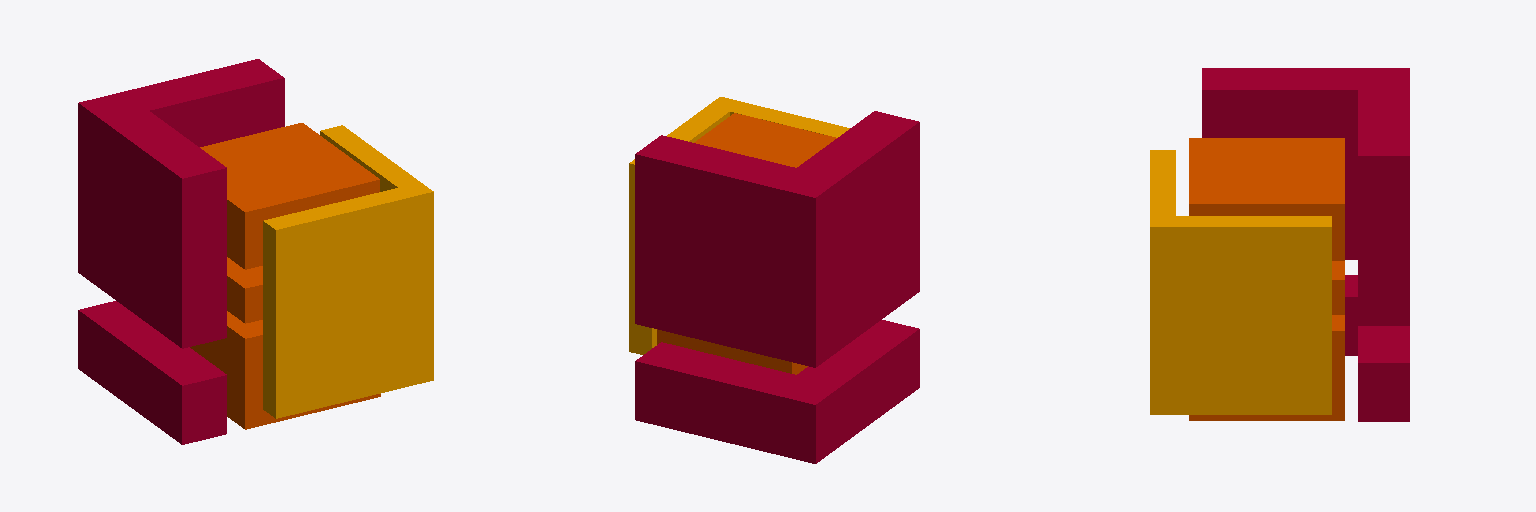
Rendered from hpicgs.obj.
The picture shows the model from 3 angles: view 1: azimuth 30°, elevation 25°; view 2: azimuth 150°, elevation 25°; view 3: azimuth 270°, elevation 25°; orthographic projection.
Visible parts, largest first — view 1: Box007, Box002, Box009, Box011, Box008, Box010; view 2: Box007, Box009, Box002, Box011, Box008; view 3: Box002, Box007, Box011, Box009, Box008, Box010.
Boxes of the visible parts, box(x1,y1,x2,y2) form: Box007: box(78, 59, 284, 348); Box002: box(263, 125, 433, 418); Box009: box(78, 301, 226, 444); Box011: box(200, 123, 379, 269); Box008: box(190, 311, 380, 429); Box010: box(227, 257, 262, 323); Box007: box(635, 111, 919, 367); Box009: box(635, 320, 919, 463); Box002: box(629, 97, 849, 354); Box011: box(694, 113, 836, 167); Box008: box(657, 329, 807, 374); Box002: box(1150, 150, 1331, 414); Box007: box(1202, 68, 1409, 325); Box011: box(1189, 138, 1344, 260); Box009: box(1345, 275, 1409, 421); Box008: box(1189, 315, 1344, 420); Box010: box(1332, 261, 1344, 314).
Size of the model in its own units: 40.01 by 45.17 by 40.02.